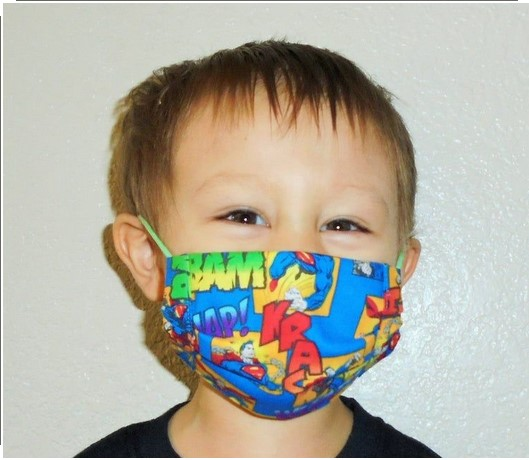face_with_mask: (107, 46, 424, 424)
